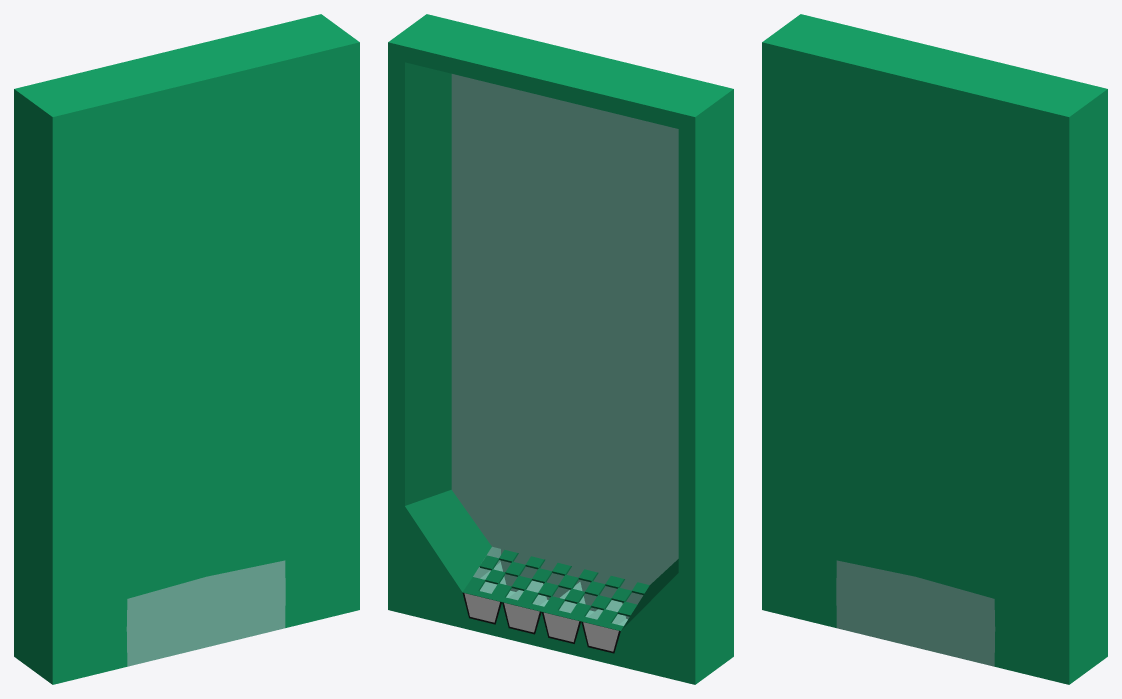
File: last_bg_green.fbx
3 renders of one model, left to right at view 1: azimuth 30°, elevation 25°; view 2: azimuth 150°, elevation 25°; view 3: azimuth 330°, elevation 25°, orthographic.
Parts seen in each view (by area): view 1: background_green.001; view 2: background_green.001, grille.green.001; view 3: background_green.001.
Part boxes in pixels (box(x1,y1,x2,y2)): background_green.001: box(14, 14, 359, 684); background_green.001: box(388, 14, 733, 684); grille.green.001: box(462, 549, 649, 631); background_green.001: box(762, 14, 1107, 684).
Size of the model in its own units: 9.06 by 16 by 1.97.
